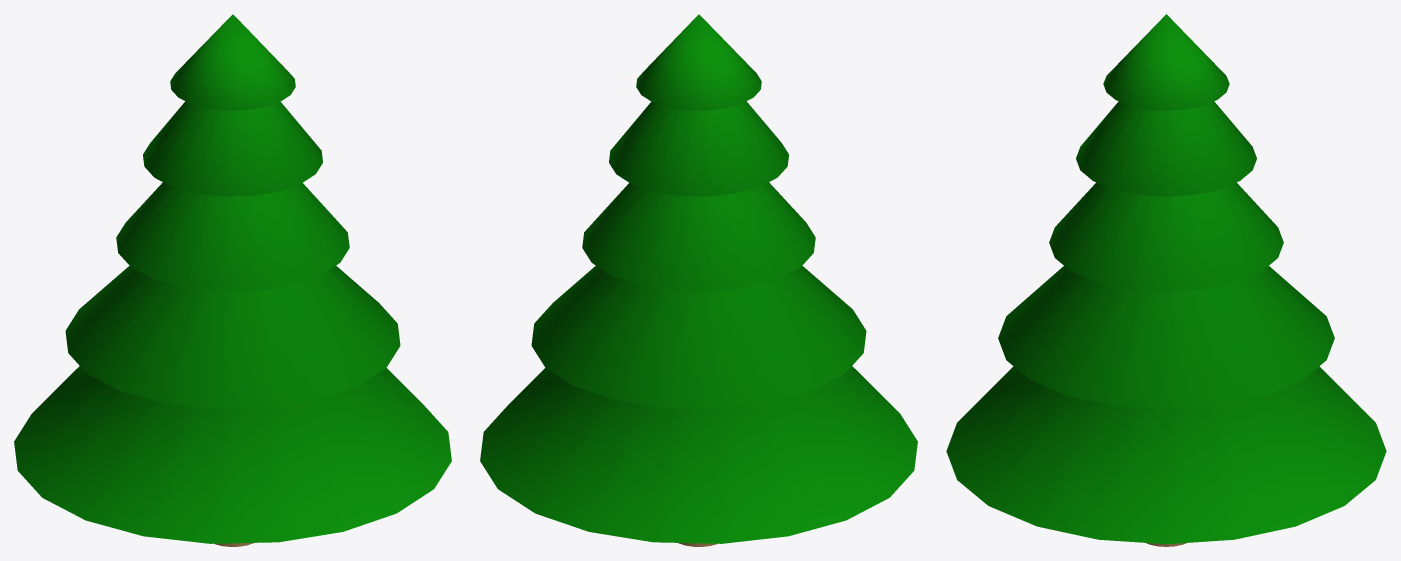
Rendered from back_ground_pine02.fbx.
3 views of the same model, side by side, from view 1: azimuth 30°, elevation 25°; view 2: azimuth 150°, elevation 25°; view 3: azimuth 270°, elevation 25° (orthographic).
Parts seen in each view (by area): view 1: back_ground_pine02; view 2: back_ground_pine02; view 3: back_ground_pine02.
Boxes of the visible parts, box(x1,y1,x2,y2) form: back_ground_pine02: box(14, 14, 451, 546); back_ground_pine02: box(480, 14, 917, 546); back_ground_pine02: box(946, 14, 1386, 546).
Bounding box in the file's own units: 30.49 × 39.81 × 30.49.
